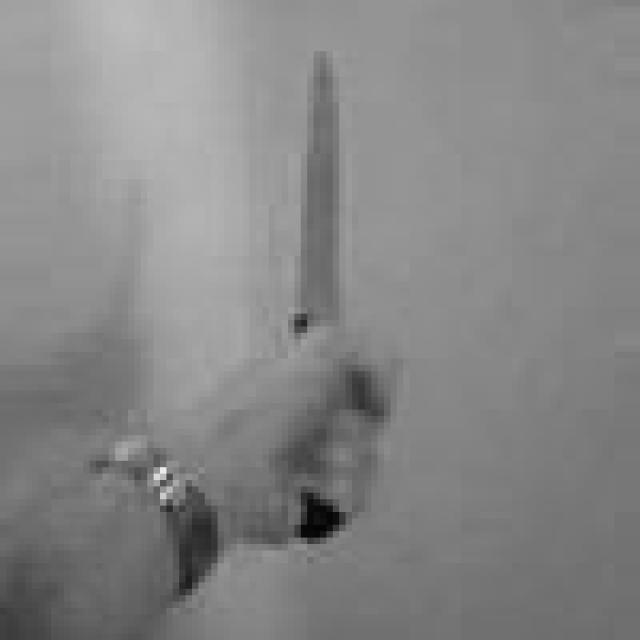knife: (296, 50, 352, 541)
